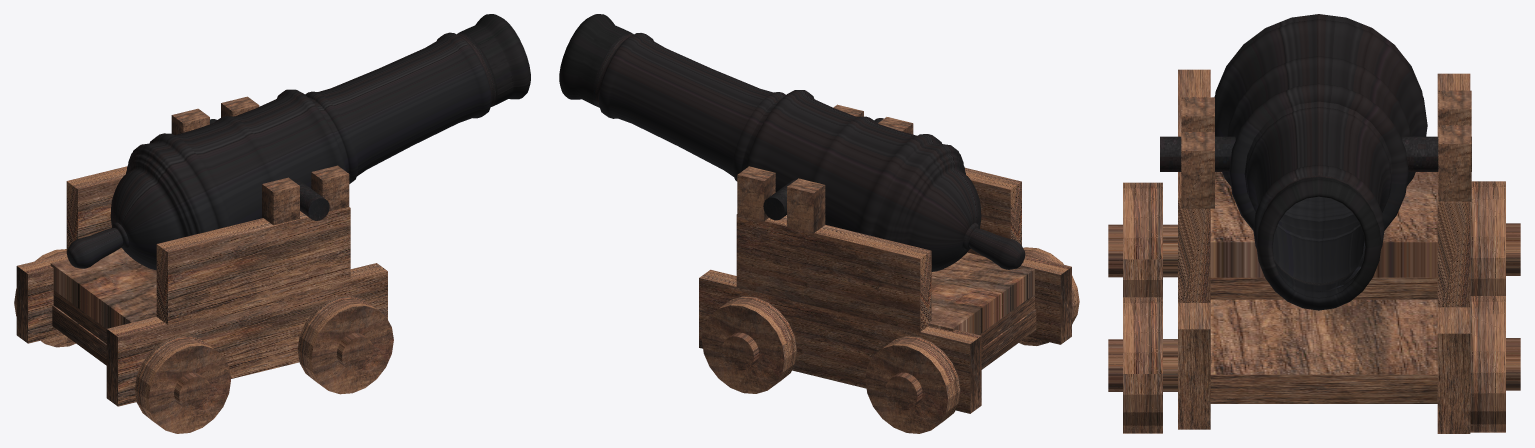
The model's file is cannon.fbx.
The picture shows the model from 3 angles, left to right: view 1: azimuth 30°, elevation 25°; view 2: azimuth 150°, elevation 25°; view 3: azimuth 270°, elevation 25°; orthographic projection. The views are drawn at different scales.
Parts seen in each view (by area): view 1: cannon, wooden_sideR, wooden_sideR2, wheel2, wheel1, wooden_base2, wooden_sideL2, wooden_sideL, wooden_sideR3, wooden_sideR4, wooden_base, cannon_side (+3 smaller); view 2: cannon, wooden_sideL, wooden_sideL2, wheel3, wheel4, wooden_base2, wooden_sideR2, wooden_sideR, wooden_sideL3, wooden_sideL4, wooden_base, wheel2 (+1 smaller); view 3: cannon, wooden_base, wooden_base2, wheel1, wheel2, wheel4, wheel3, wooden_sideL, wooden_sideR, wooden_sideL2, wooden_sideR2, wooden_sideL4 (+5 smaller).
Boxes of the visible parts, left/top/right/bottom form: cannon: left=67, top=14, right=530, bottom=270; wooden_sideR: left=156, top=207, right=350, bottom=329; wooden_sideR2: left=106, top=263, right=387, bottom=406; wheel2: left=134, top=335, right=230, bottom=433; wheel1: left=297, top=295, right=393, bottom=394; wooden_base2: left=50, top=248, right=156, bottom=343; wooden_sideL2: left=16, top=253, right=67, bottom=343; wooden_sideL: left=66, top=166, right=127, bottom=253; wooden_sideR3: left=262, top=177, right=299, bottom=225; wooden_sideR4: left=311, top=165, right=349, bottom=211; wooden_base: left=52, top=305, right=106, bottom=365; cannon_side: left=292, top=179, right=329, bottom=220; cannon: left=559, top=14, right=1025, bottom=271; wooden_sideL: left=736, top=214, right=931, bottom=336; wooden_sideL2: left=699, top=269, right=981, bottom=413; wheel3: left=865, top=336, right=960, bottom=433; wheel4: left=701, top=296, right=796, bottom=393; wooden_base2: left=928, top=252, right=1034, bottom=347; wooden_sideR2: left=967, top=252, right=1071, bottom=344; wooden_sideR: left=965, top=167, right=1021, bottom=255; wooden_sideL3: left=787, top=178, right=825, bottom=233; wooden_sideL4: left=737, top=166, right=775, bottom=221; wooden_base: left=981, top=309, right=1036, bottom=369; wheel2: left=1019, top=247, right=1079, bottom=345; cannon: left=1214, top=14, right=1427, bottom=310; wooden_base: left=1210, top=299, right=1437, bottom=403; wooden_base2: left=1210, top=172, right=1437, bottom=299; wheel1: left=1108, top=297, right=1177, bottom=433; wheel2: left=1108, top=182, right=1177, bottom=297; wheel4: left=1470, top=296, right=1520, bottom=432; wheel3: left=1470, top=181, right=1520, bottom=295; wooden_sideL: left=1437, top=73, right=1470, bottom=307; wooden_sideR: left=1178, top=69, right=1210, bottom=302; wooden_sideL2: left=1437, top=307, right=1470, bottom=433; wooden_sideR2: left=1178, top=303, right=1210, bottom=429; wooden_sideL4: left=1438, top=125, right=1471, bottom=201.
Size of the model in its own units: 115 by 67.09 by 63.23.
2 materials, 2 textured.
